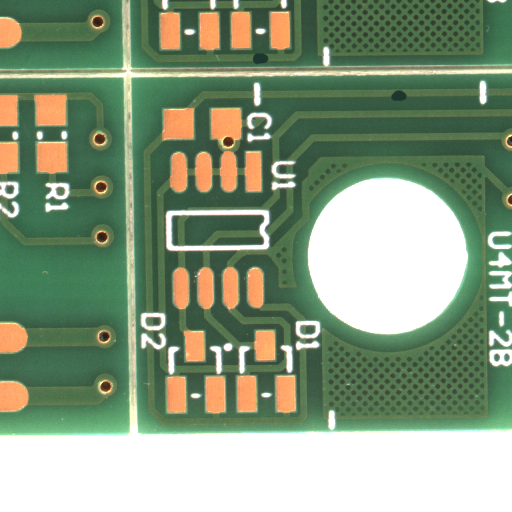Mouse_bite: (260, 58, 277, 71), (399, 95, 416, 108)
